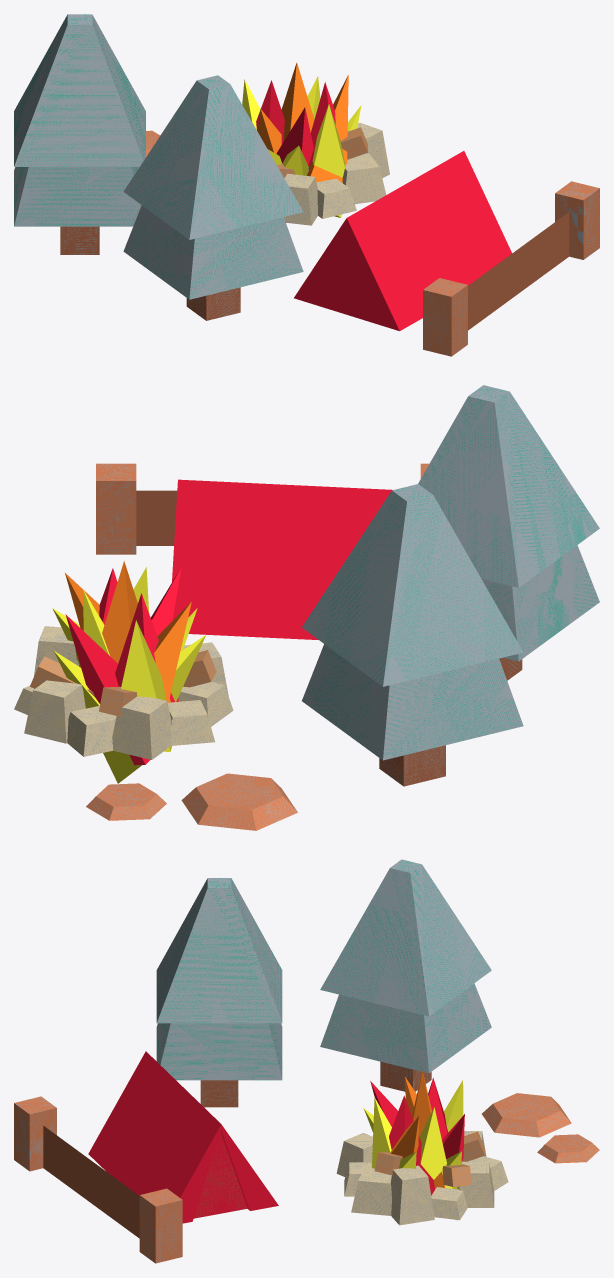
The model's file is Campfire.fbx.
3 renders of one model, top to bottom at view 1: azimuth 30°, elevation 25°; view 2: azimuth 150°, elevation 25°; view 3: azimuth 270°, elevation 25°, orthographic. The views are drawn at different scales.
Visible parts, largest first — view 1: Group3, Group4, Group27, Group1, rocks1, Group23, Group19, Group25, Group9, wood1, Group16, Group13 (+3 smaller); view 2: Group4, Group3, Group27, rocks1, Group1, Group11, wood1, Group2, Group6, Group17, Group19, Group13 (+6 smaller); view 3: Group4, Group3, Group27, Group1, rocks1, Group11, wood1, Group2, Group20, Group22, Group23, Group19 (+3 smaller).
Part boxes in pixels (x1,y1,x2,y2): Group3: (123, 75, 303, 320); Group4: (14, 14, 145, 254); Group27: (294, 151, 512, 331); Group1: (423, 181, 599, 356); rocks1: (284, 122, 389, 225); Group23: (312, 104, 345, 177); Group19: (281, 62, 314, 141); Group25: (307, 75, 348, 182); Group9: (276, 107, 313, 165); wood1: (277, 127, 367, 177); Group16: (256, 80, 284, 144); Group13: (257, 108, 281, 153); Group4: (302, 484, 523, 786); Group3: (418, 385, 599, 680); Group27: (172, 479, 392, 639); rocks1: (14, 626, 233, 759); Group1: (96, 463, 428, 554); Group11: (181, 773, 297, 830); wood1: (30, 650, 216, 716); Group2: (86, 783, 166, 820); Group6: (65, 614, 150, 765); Group17: (115, 620, 171, 751); Group19: (102, 561, 137, 663); Group13: (154, 601, 191, 703); Group4: (320, 859, 491, 1091); Group3: (156, 878, 282, 1107); Group27: (88, 1051, 278, 1223); Group1: (14, 1096, 182, 1263); rocks1: (336, 1131, 508, 1225); Group11: (482, 1093, 571, 1137); wood1: (374, 1131, 484, 1186); Group2: (537, 1134, 599, 1163); Group20: (419, 1107, 452, 1188); Group22: (389, 1095, 434, 1195); Group23: (372, 1098, 391, 1168); Group19: (412, 1070, 444, 1189).
Size of the model in its own units: 0.8169 by 0.4486 by 0.9317.
